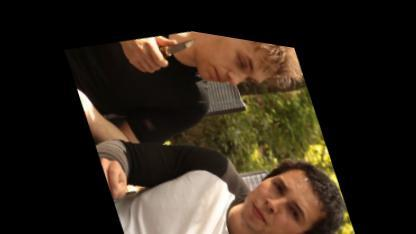knife: (134, 18, 215, 80)
